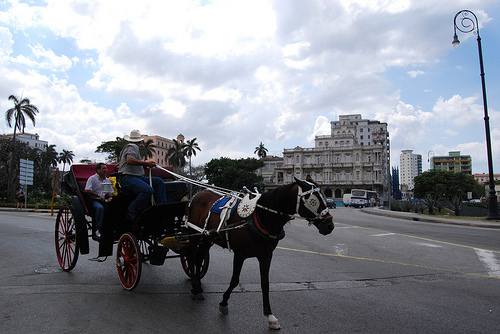horse: (182, 176, 335, 331)
